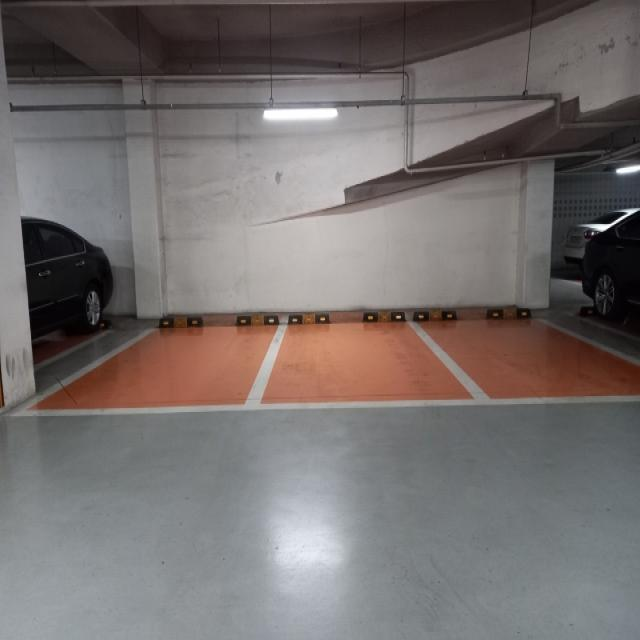empty: (417, 300, 637, 390), (109, 302, 282, 391), (276, 310, 427, 365)
